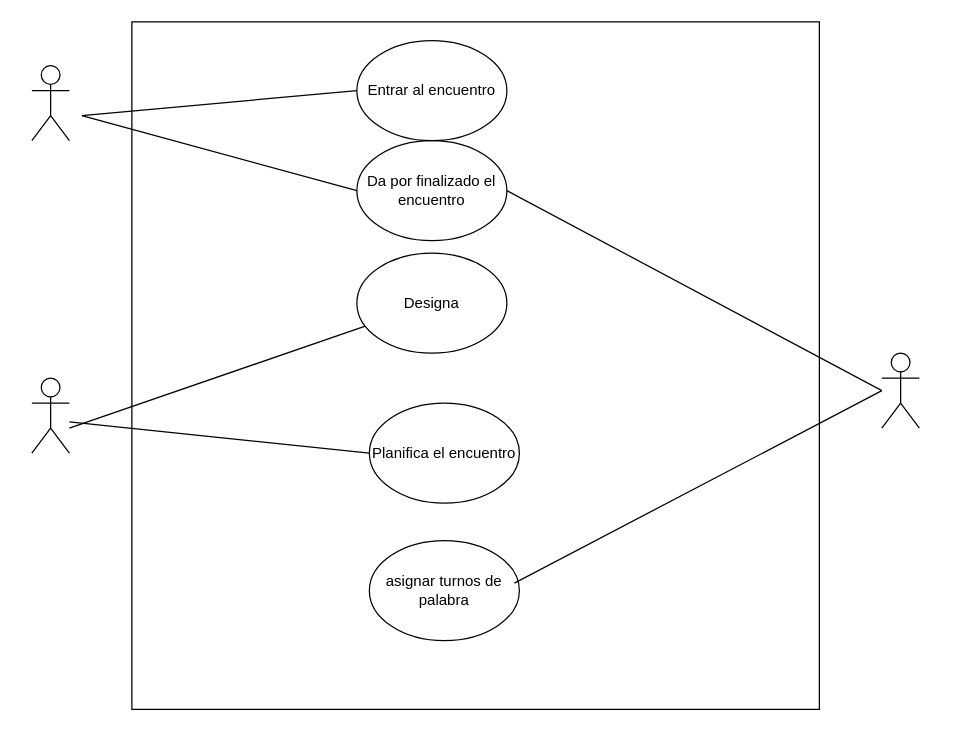
Some shapes in this 959 by 731 pixel diagram are drawn without their labels. The shapes that lost their labels are listed below. From the top down, each one's centre as x and y in pixels, then its label:
At point 50,102: "Actor".
At point 900,390: "Actor Moderador".
At point 50,415: "Actor Manager".
